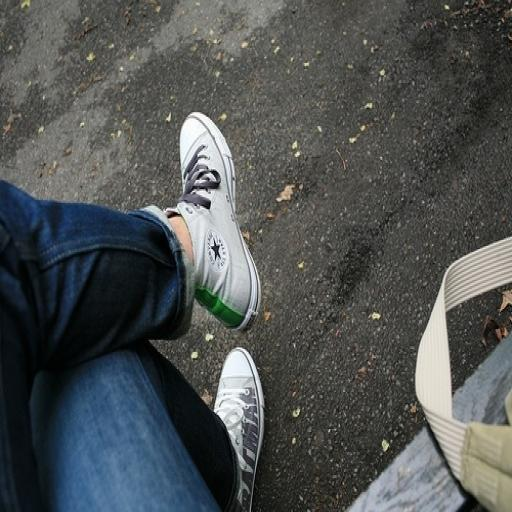shoe: (176, 112, 261, 329), (214, 347, 264, 512)
